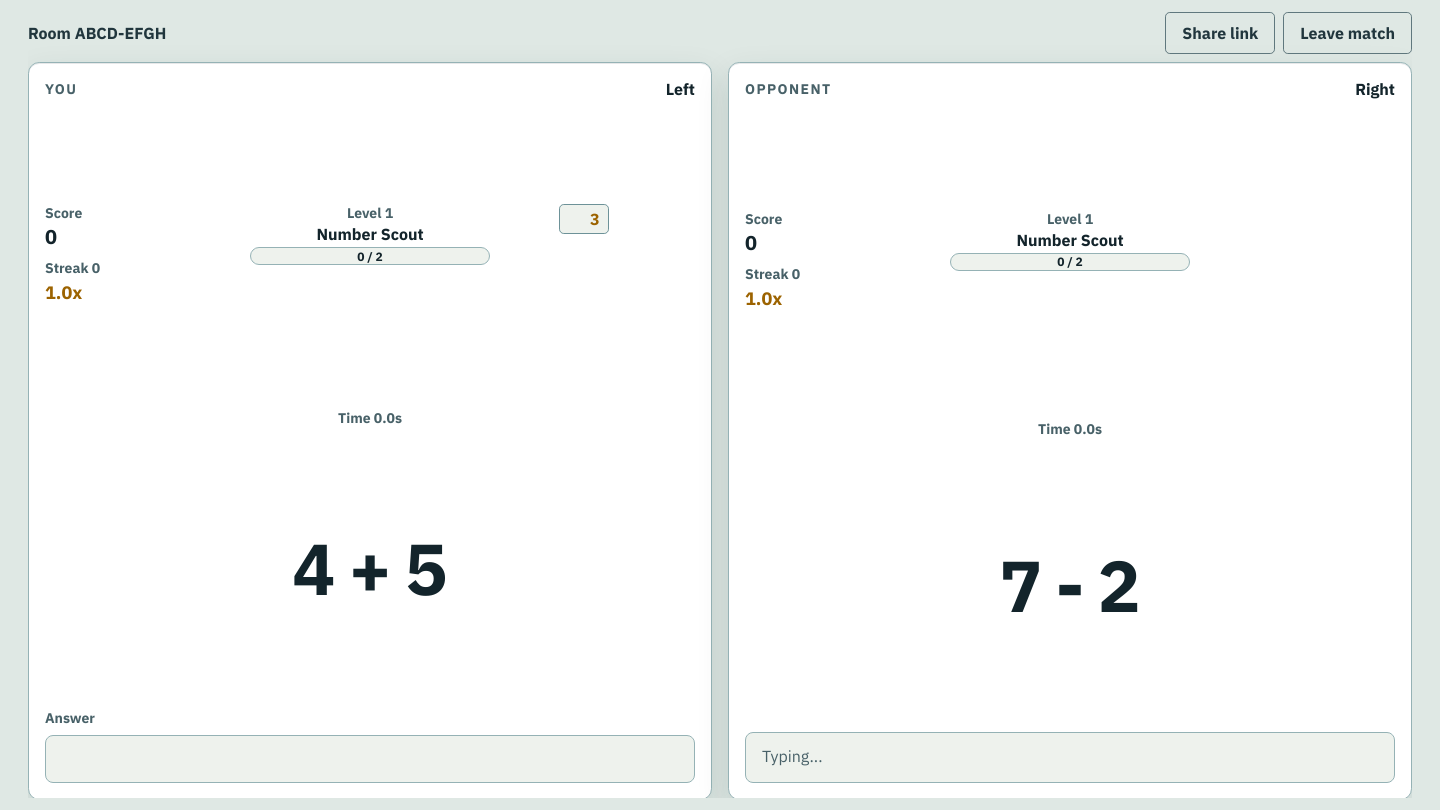
Test: FormulaFrenzyMultiplayerPageComponent › requests a hint and renders the revealed local hint
Click the button with class "hint-token" at coordinates (584, 219), box [559,204,609,234]
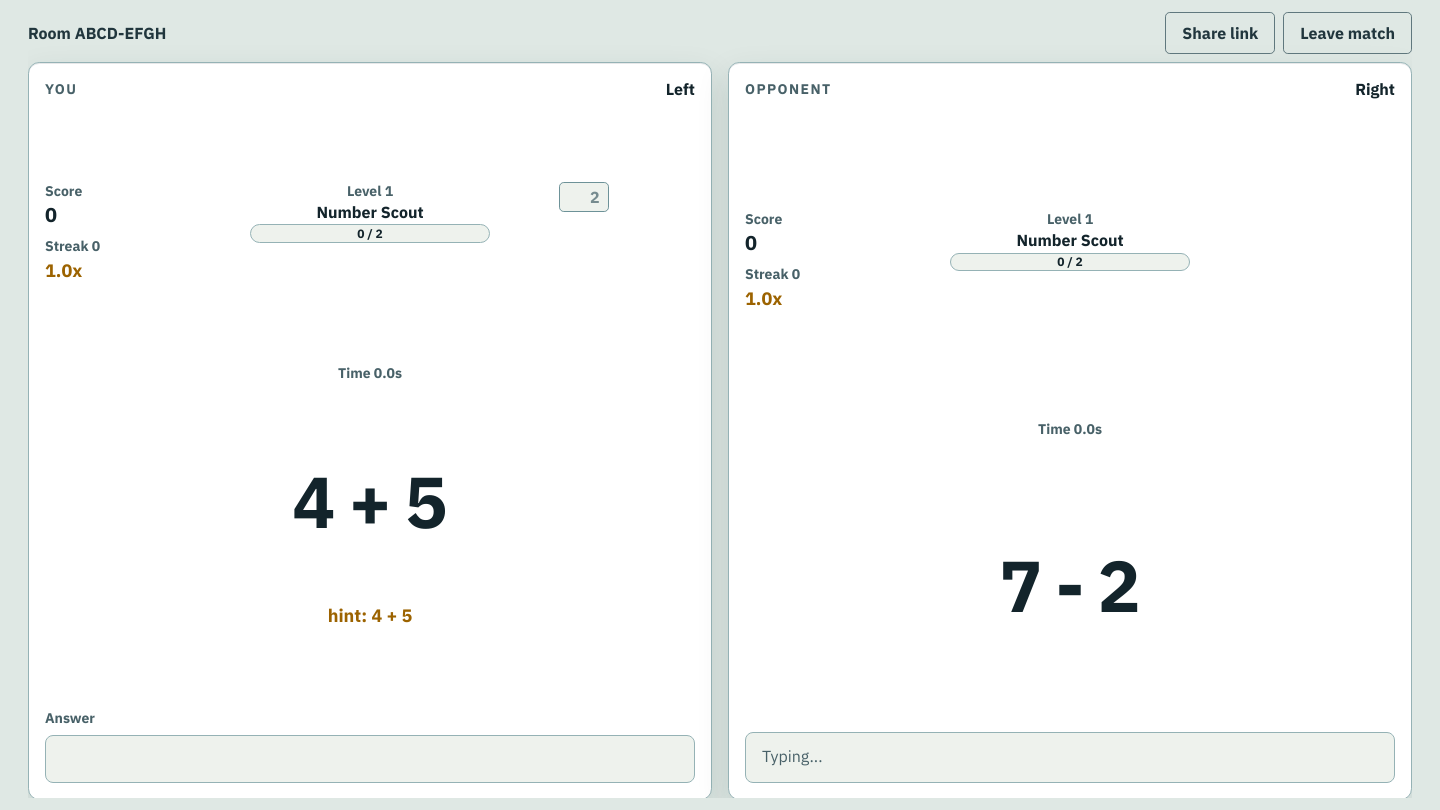
Now the button "2" is shown, box [559,182,609,212]
Now the text "hint: 4 + 5" is shown, box [328,604,412,627]
